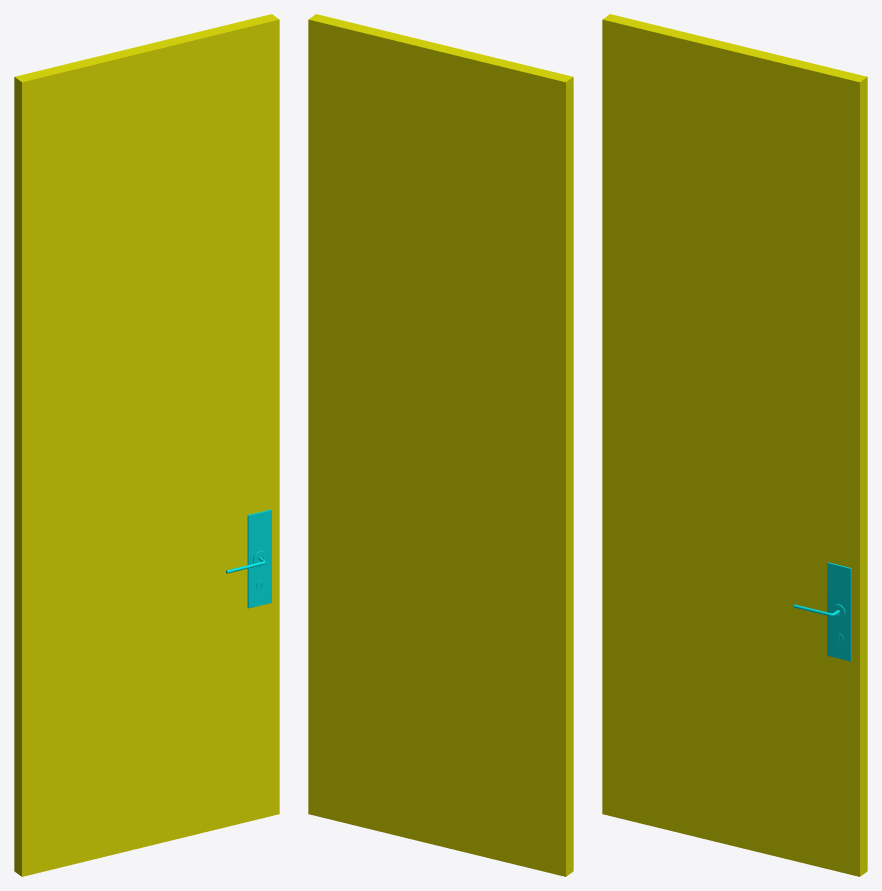
The model's file is Door_Open4.fbx.
The picture shows the model from 3 angles, left to right: view 1: azimuth 30°, elevation 25°; view 2: azimuth 150°, elevation 25°; view 3: azimuth 330°, elevation 25°; orthographic projection.
Visible parts, largest first — view 1: Door_Open3; view 2: Door_Open3; view 3: Door_Open3.
Boxes of the visible parts, left/top/right/bottom form: Door_Open3: left=14, top=14, right=279, bottom=876; Door_Open3: left=308, top=14, right=573, bottom=876; Door_Open3: left=602, top=14, right=867, bottom=876.
Bounding box in the file's own units: 103 × 304 × 10.31.
